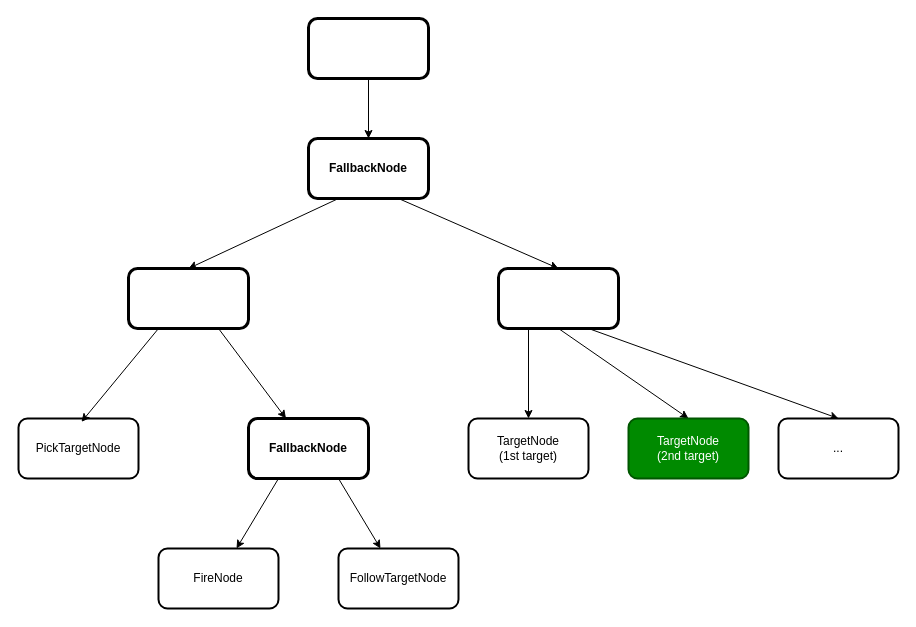
Image size: 916x627. Some labels were removed from this diagram. The shapes that lost their labels are listed below. From the top down, each one's centre as x and y in pixels, then its label:
At (368,48): "RepeaterNode".
At (188,298): "SequenceNode (attack)".
At (558,298): "SequenceNode (idle)".
